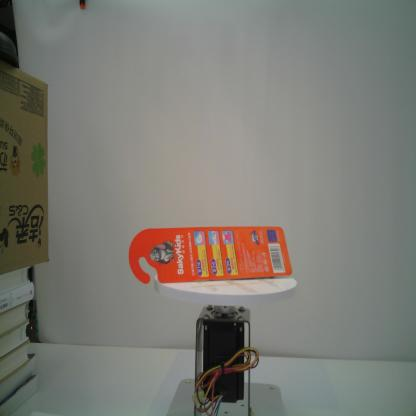Personal Hygiene: (128, 226, 293, 284)
